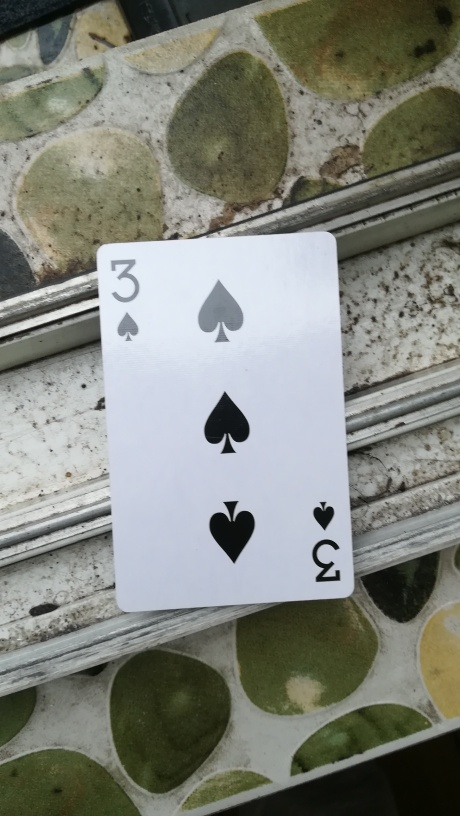ht 3: (93, 235, 366, 614)
